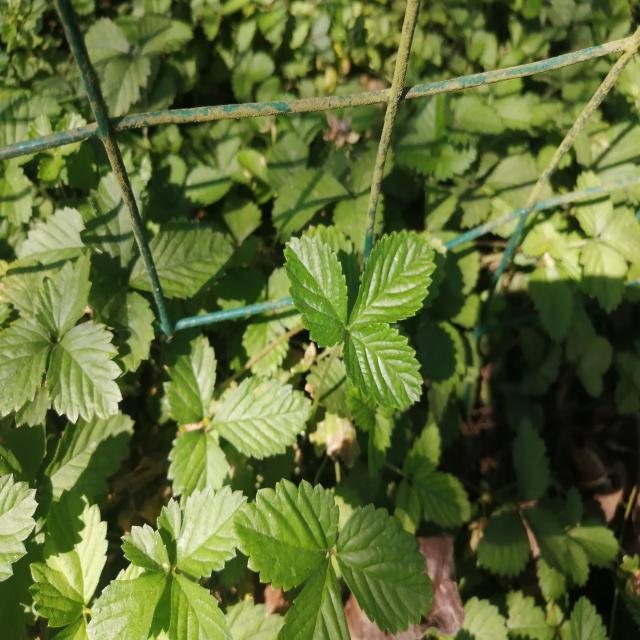Mock_strawberry: (235, 458, 435, 638), (265, 215, 436, 418), (97, 471, 254, 638), (0, 255, 136, 439)
